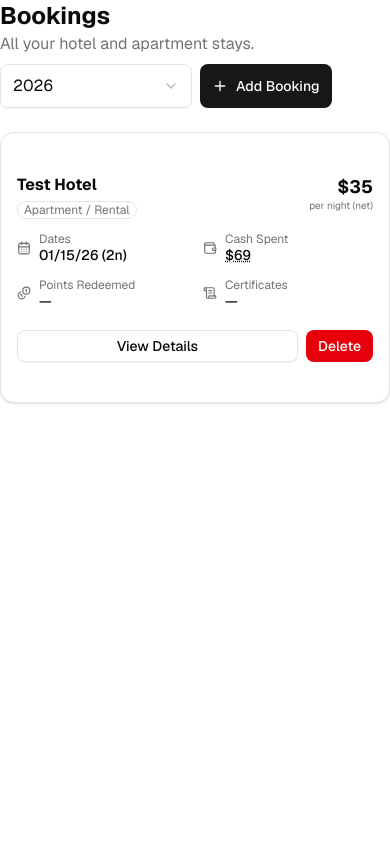
Test: BookingsPage › shows estimated rate warning when booking has exchangeRateEstimated=true
Check: the element with test id "booking-card-bk1" is shown, box top-left (0, 132), bottom-right (389, 403)
Click the button with test id "cost-popover-trigger": (238, 256) top-left (225, 247), bottom-right (251, 264)
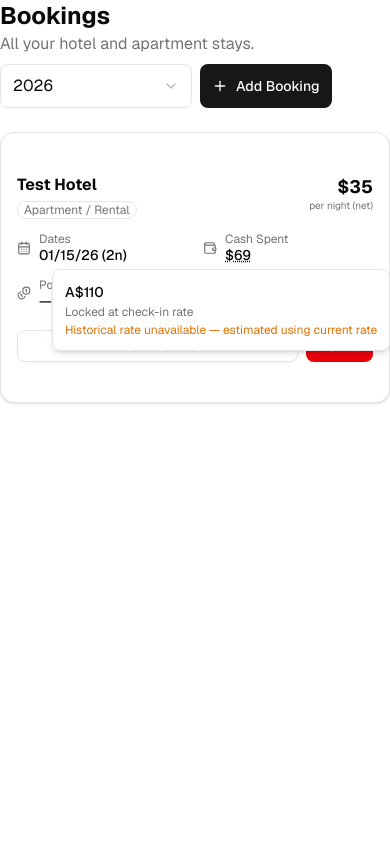
Check: the text "Historical rate unavailable — estimated using current rate" is shown, box top-left (65, 322), bottom-right (377, 338)
